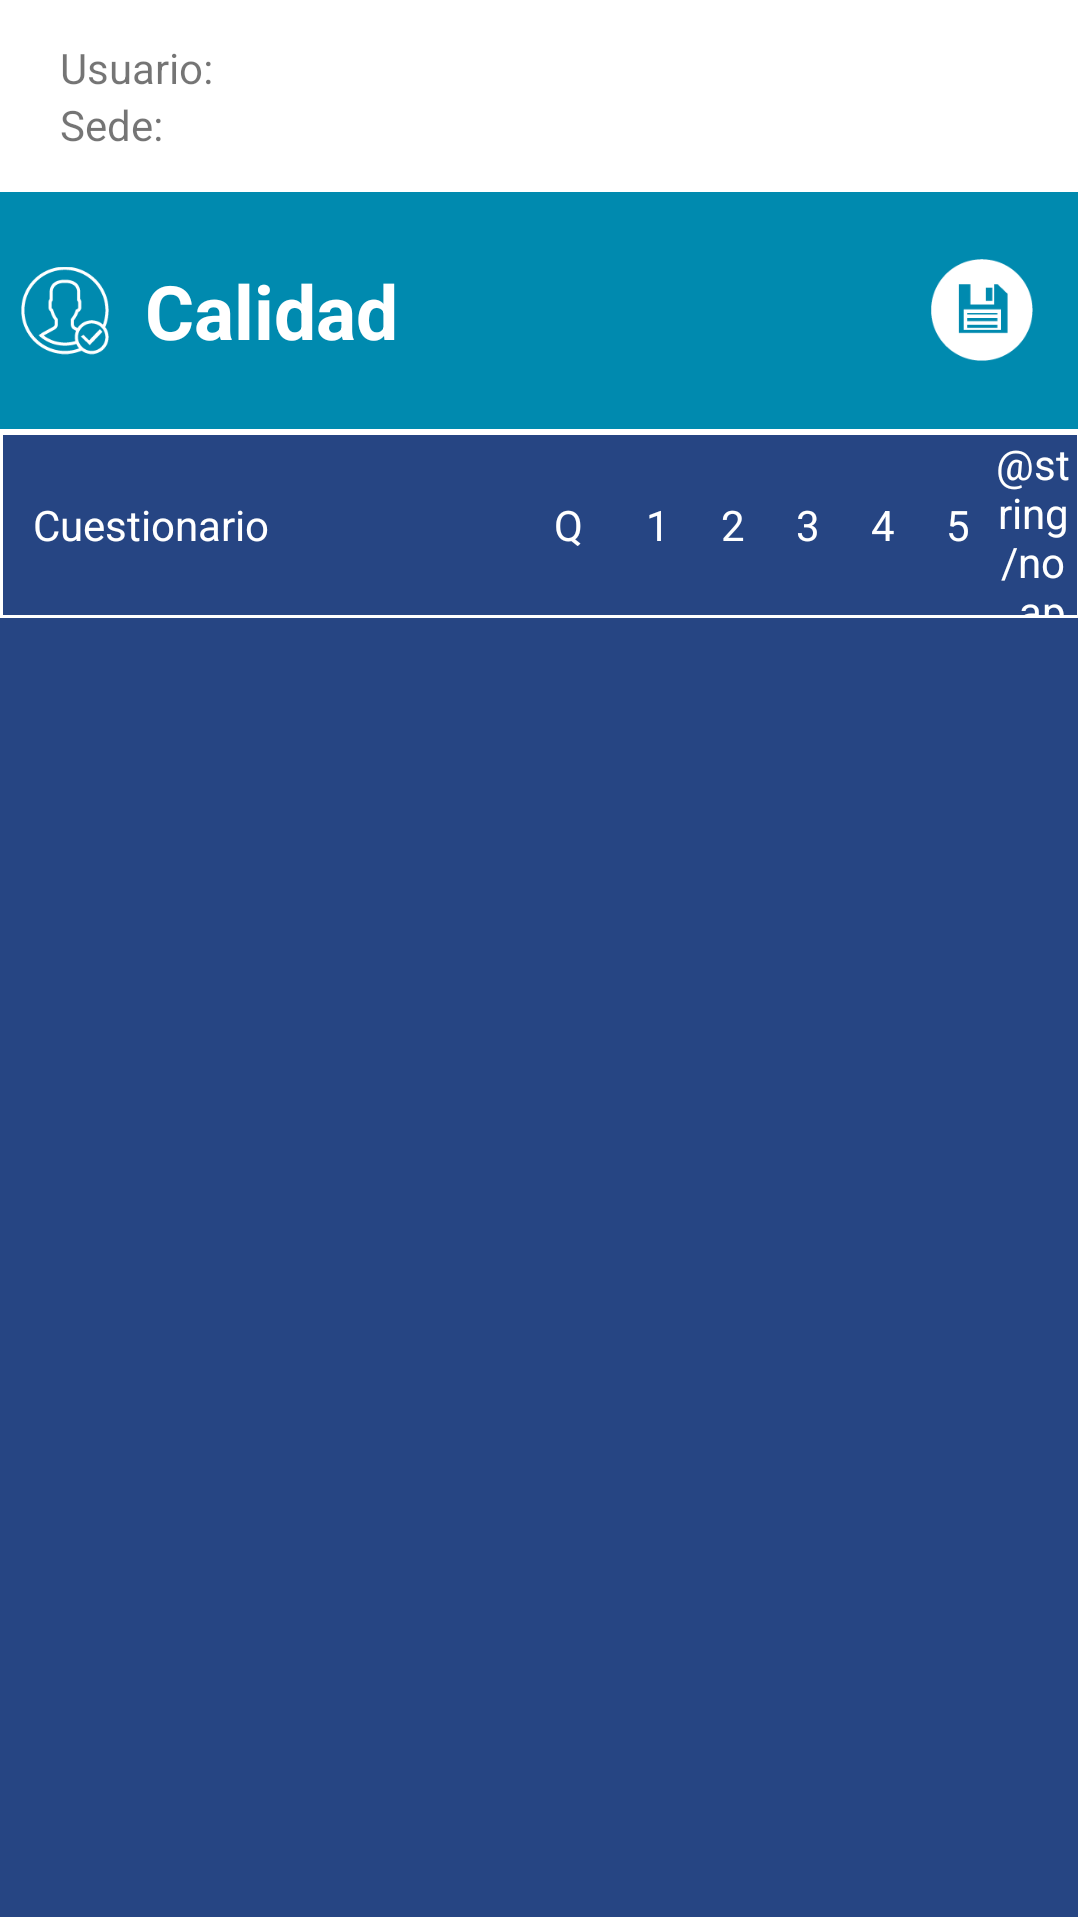

Where icons sit on this 1080x1920 app screen, as (x1, y1, x2, y2):
guardar: (931, 259, 1033, 361)
iconopresencia: (21, 267, 109, 355)
